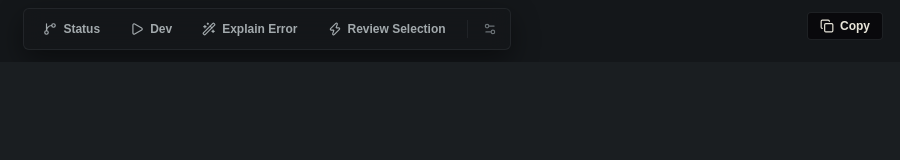
Test case: TerminalTab UI surfaces › shows the floating copy button when a selection exists and copies it
Click the button "Copy".
click(845, 26)  # box left=807, top=12, right=883, bottom=40
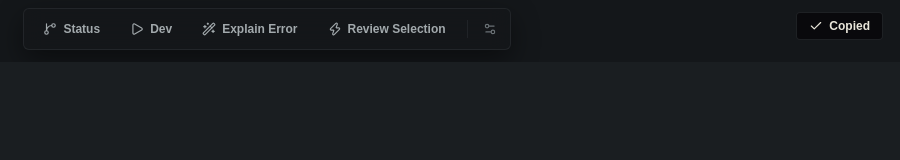
expect the text "Copied" is shown: met, box left=829, top=19, right=870, bottom=33
